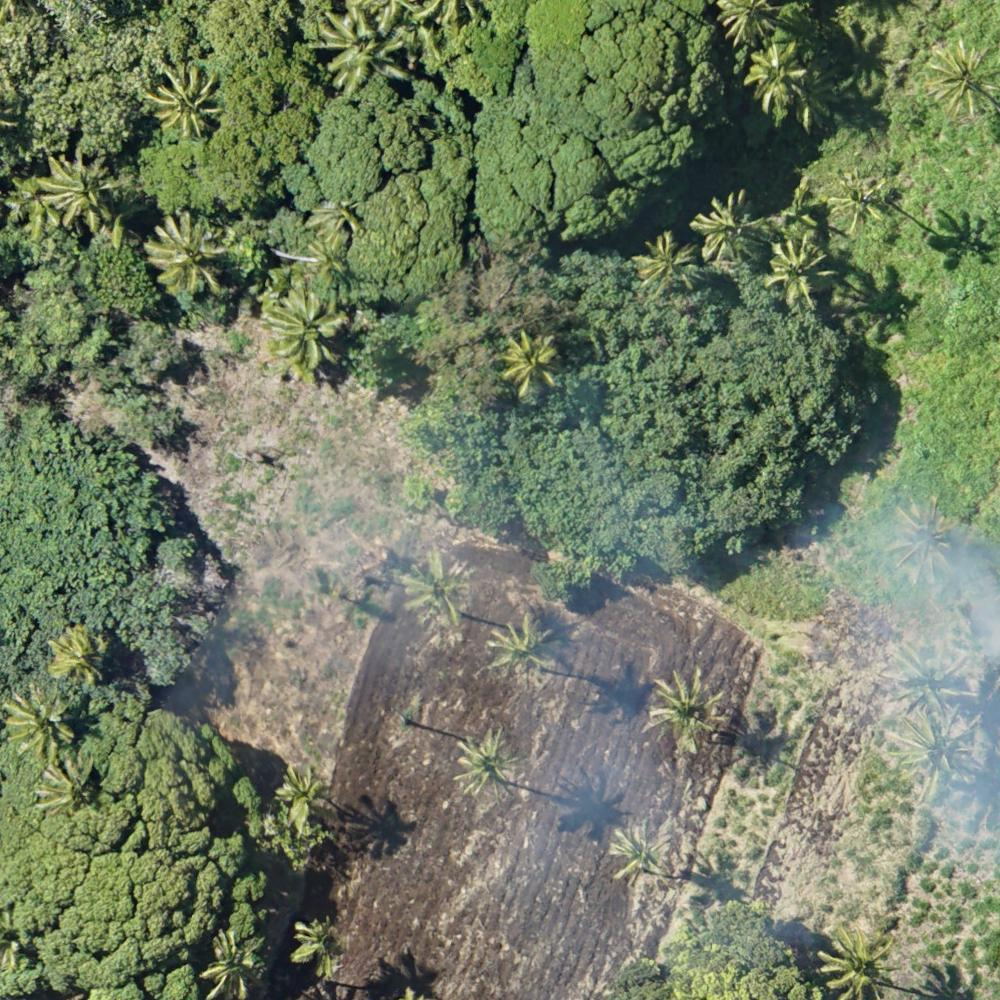Palm: (313, 7, 409, 85), (889, 715, 973, 796), (924, 35, 998, 125), (646, 671, 725, 750), (148, 210, 222, 294), (266, 290, 341, 372), (41, 152, 119, 229), (888, 643, 972, 713), (147, 62, 223, 132), (893, 498, 959, 577), (818, 925, 893, 994), (4, 685, 72, 758), (746, 42, 811, 118), (487, 614, 555, 684), (401, 554, 467, 626), (692, 192, 761, 260), (771, 236, 837, 307), (37, 754, 109, 813), (202, 929, 266, 995), (606, 818, 673, 881), (455, 728, 517, 796), (632, 231, 696, 296), (498, 329, 559, 393), (271, 764, 328, 826), (45, 624, 106, 680), (829, 176, 889, 232), (289, 919, 345, 974), (303, 194, 371, 238), (306, 238, 352, 282)
